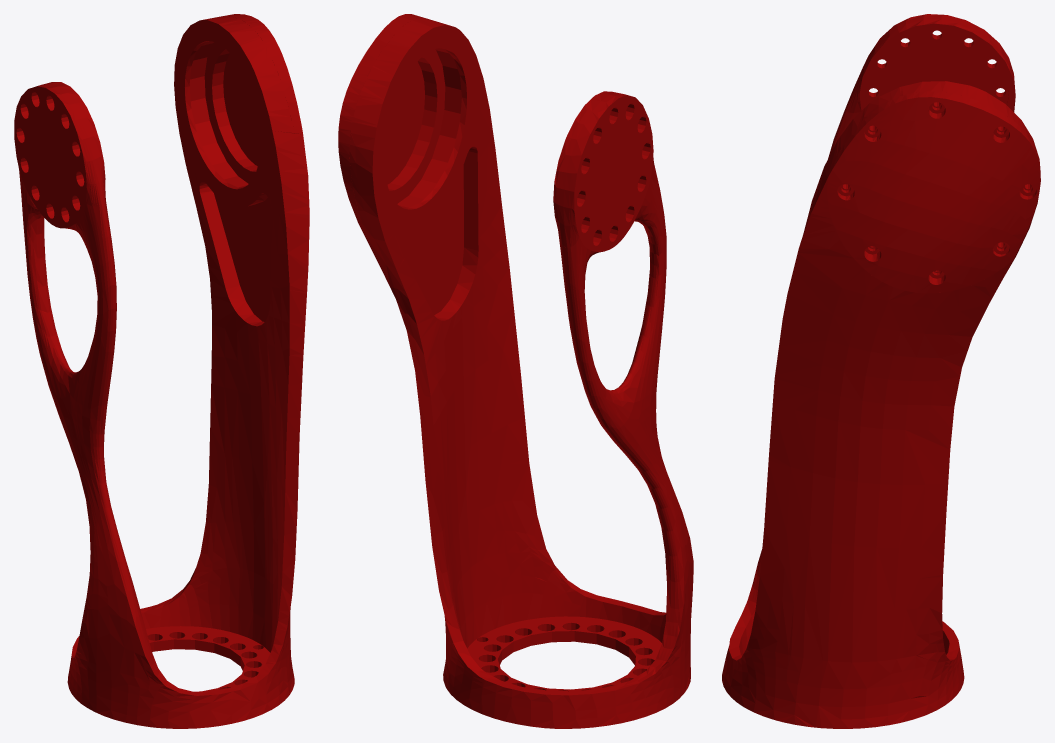
Rendered from L_arm.obj.
3 views of the same model, side by side, from view 1: azimuth 30°, elevation 25°; view 2: azimuth 150°, elevation 25°; view 3: azimuth 270°, elevation 25° (orthographic). The views are drawn at different scales.
Parts seen in each view (by area): view 1: L_arm; view 2: L_arm; view 3: L_arm.
Part boxes in pixels (x1,y1,x2,y2): L_arm: (14,14,309,728); L_arm: (338,14,693,728); L_arm: (722,14,1040,728).
Bounding box in the file's own units: 0.0991 × 0.2453 × 0.1104.
